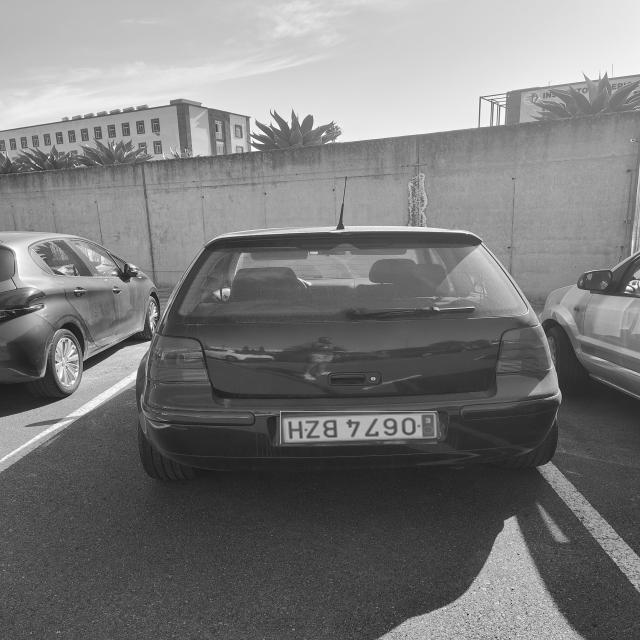License-Plate: (280, 411, 437, 444)
